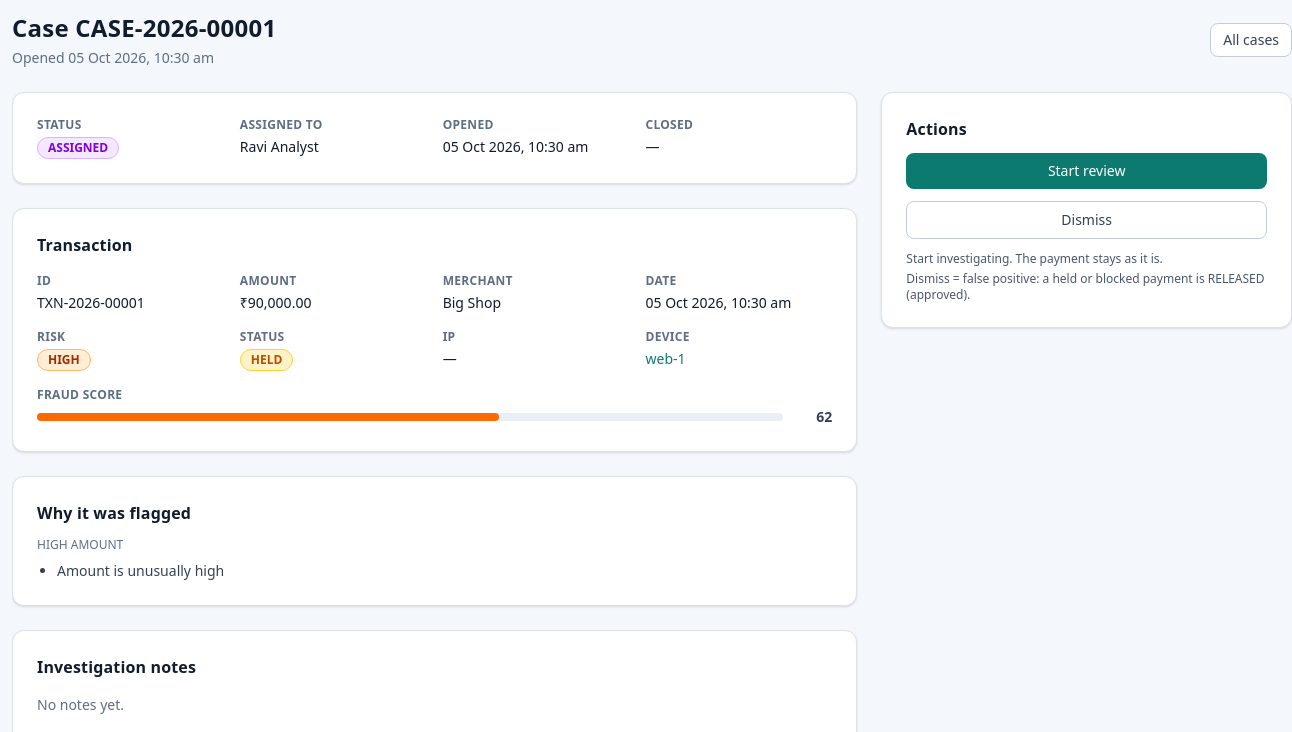
Test case: CaseDetail workflow › Start review sends the status and refetches the case
What coordinates should you click on to do the following:
click the button "Start review"
I would click on:
 (1087, 171)
Its box is [906, 153, 1267, 189].
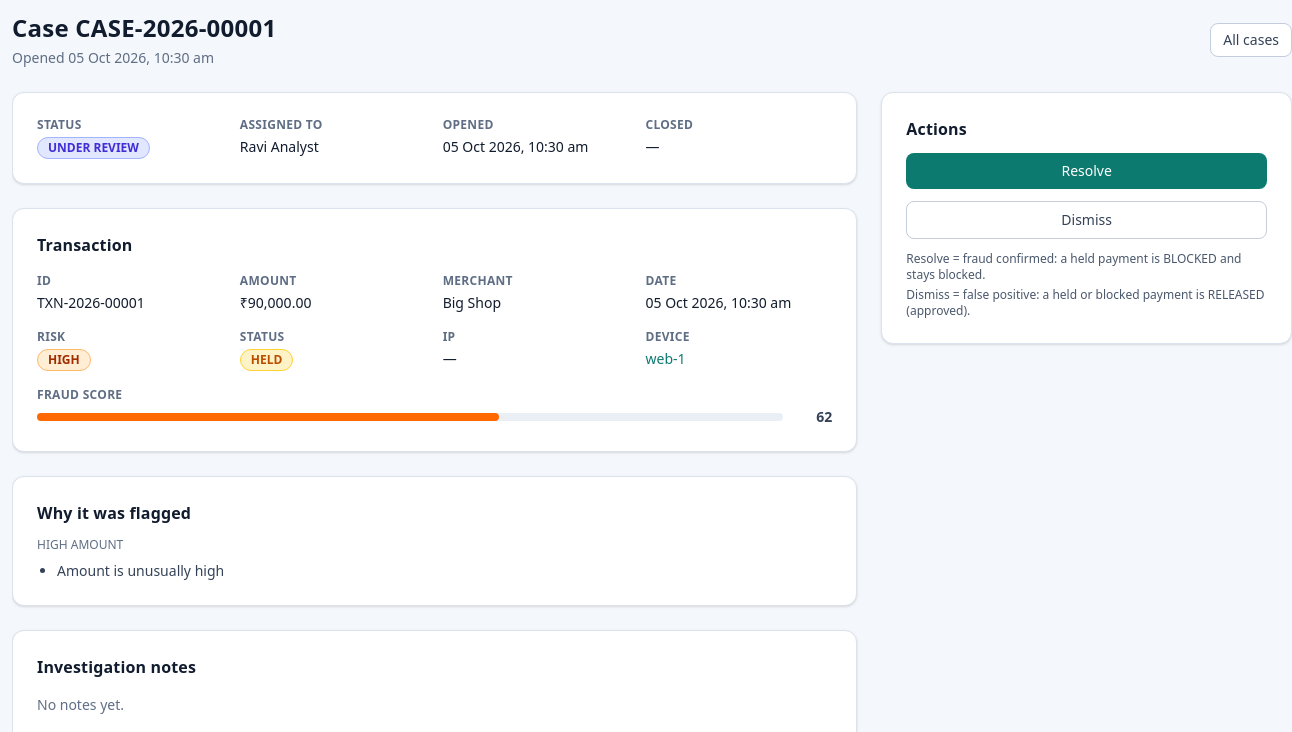
Expected: the button "Resolve" is shown, [906, 153, 1267, 189]
